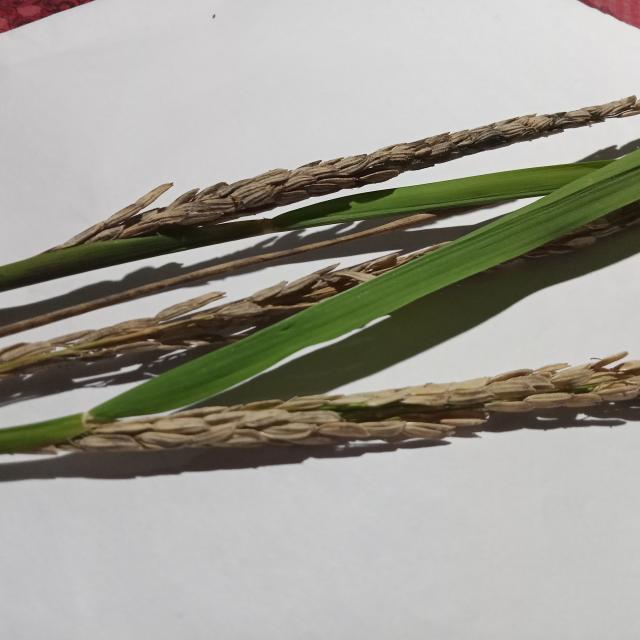Neck_Blast: (101, 108, 640, 243), (5, 352, 640, 451), (0, 261, 421, 392)
